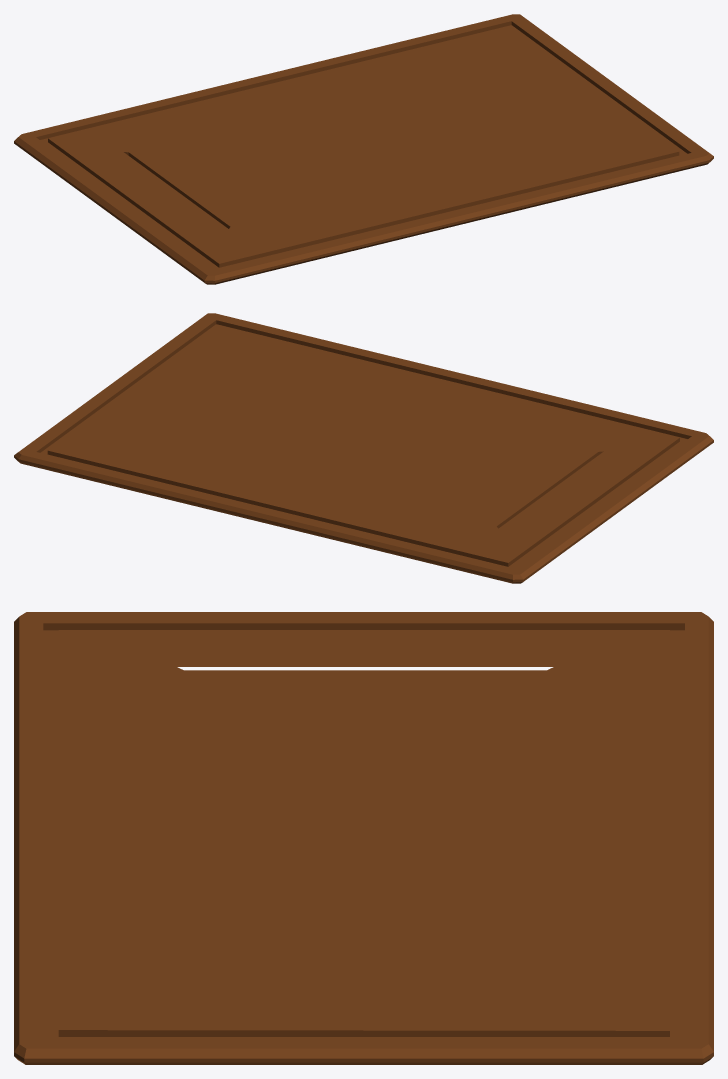
Rendered from tabua.fbx.
3 renders of one model, top to bottom at view 1: azimuth 30°, elevation 25°; view 2: azimuth 150°, elevation 25°; view 3: azimuth 270°, elevation 25°, orthographic. The views are drawn at different scales.
Visible parts, largest first — view 1: Plane; view 2: Plane; view 3: Plane.
Boxes of the visible parts, x1,y1,x2,y2 form: Plane: (14,14,713,284); Plane: (14,313,713,583); Plane: (14,612,713,1064).
Size of the model in its own units: 212 by 3.37 by 141.
